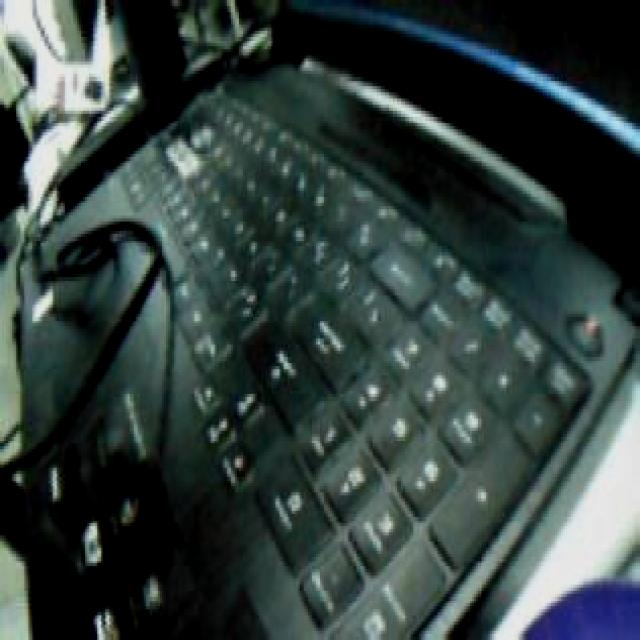BallPurple: (519, 575, 640, 640)
